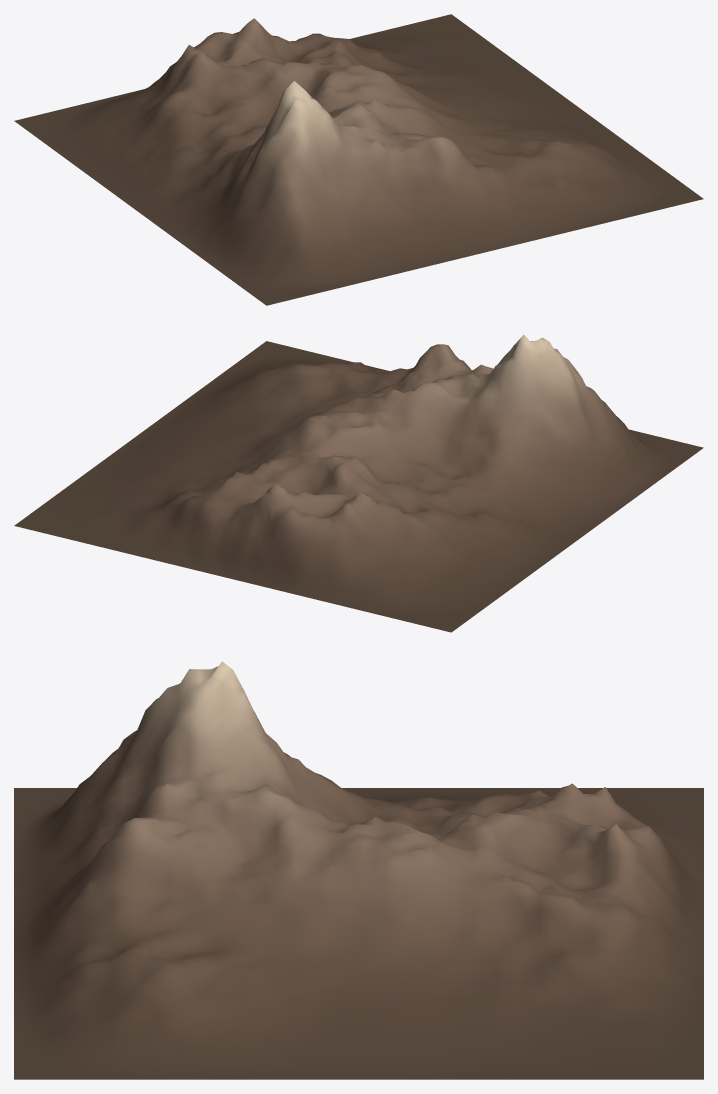
Rendered from Mountain_2A.fbx.
3 renders of one model, top to bottom at view 1: azimuth 30°, elevation 25°; view 2: azimuth 150°, elevation 25°; view 3: azimuth 270°, elevation 25°, orthographic. The views are drawn at different scales.
Visible parts, largest first — view 1: Mountain_2A; view 2: Mountain_2A; view 3: Mountain_2A.
Boxes of the visible parts, left/top/right/bottom form: Mountain_2A: left=14, top=14, right=703, bottom=305; Mountain_2A: left=14, top=334, right=703, bottom=632; Mountain_2A: left=14, top=661, right=703, bottom=1079.
Bounding box in the file's own units: 20000 × 6280 × 20000.
